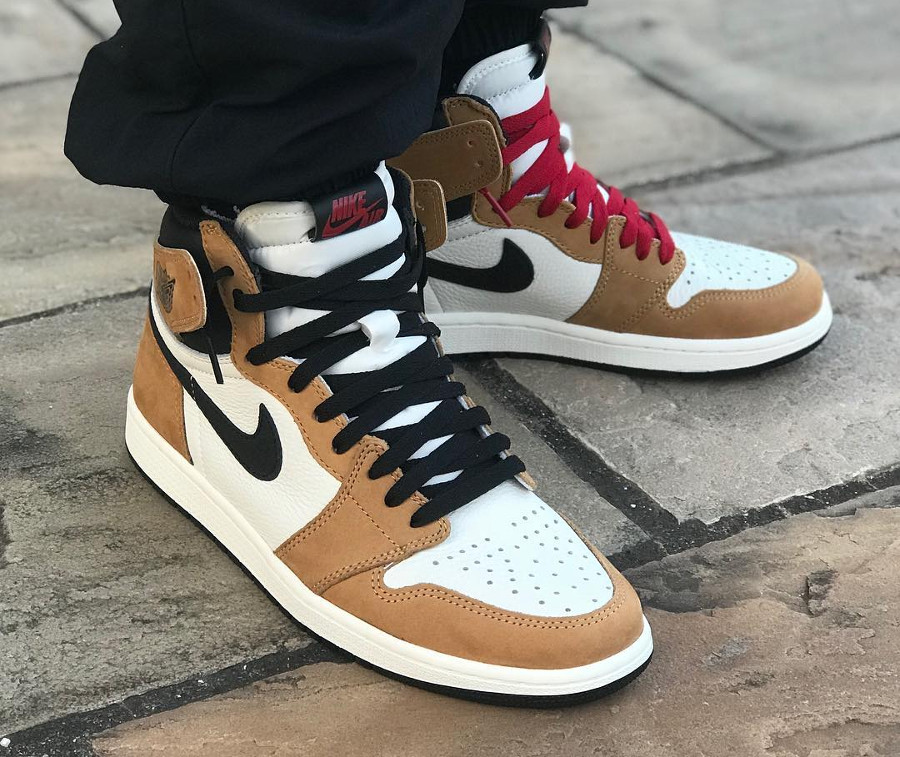Jordan 1: (117, 155, 666, 713), (380, 30, 845, 382)
